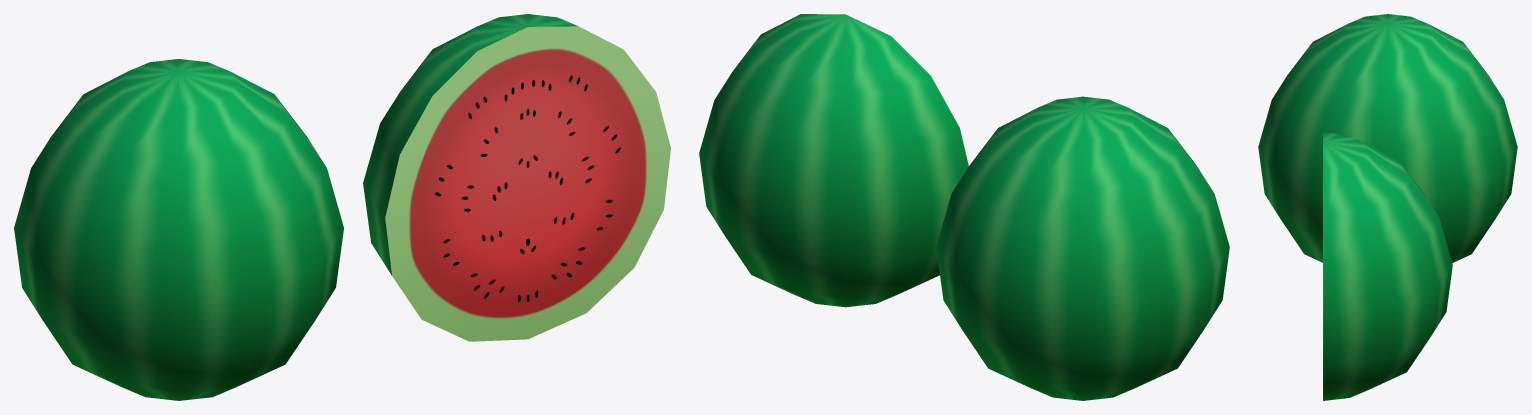
File: watermelon.fbx
The picture shows the model from 3 angles, left to right: view 1: azimuth 30°, elevation 25°; view 2: azimuth 150°, elevation 25°; view 3: azimuth 270°, elevation 25°; orthographic projection. The views are drawn at different scales.
Parts seen in each view (by area): view 1: watermelon_mesh, watermelon_half_mesh; view 2: watermelon_mesh, watermelon_half_mesh; view 3: watermelon_mesh, watermelon_half_mesh.
Boxes of the visible parts, x1=… form: watermelon_mesh: x1=14, y1=59, x2=343, y2=400; watermelon_half_mesh: x1=363, y1=14, x2=670, y2=341; watermelon_mesh: x1=936, y1=96, x2=1229, y2=400; watermelon_half_mesh: x1=699, y1=14, x2=968, y2=307; watermelon_mesh: x1=1258, y1=14, x2=1517, y2=262; watermelon_half_mesh: x1=1323, y1=132, x2=1452, y2=400.
Size of the model in its own units: 3.86 by 1.94 by 1.86.
